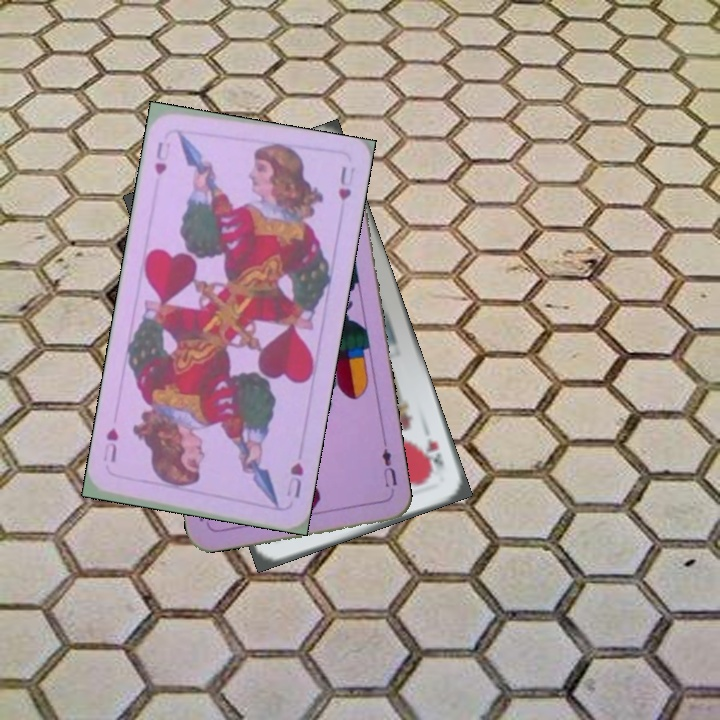EU: (377, 439, 400, 498)
HK: (417, 434, 447, 475)
HU: (282, 459, 306, 501), (150, 137, 173, 178)
